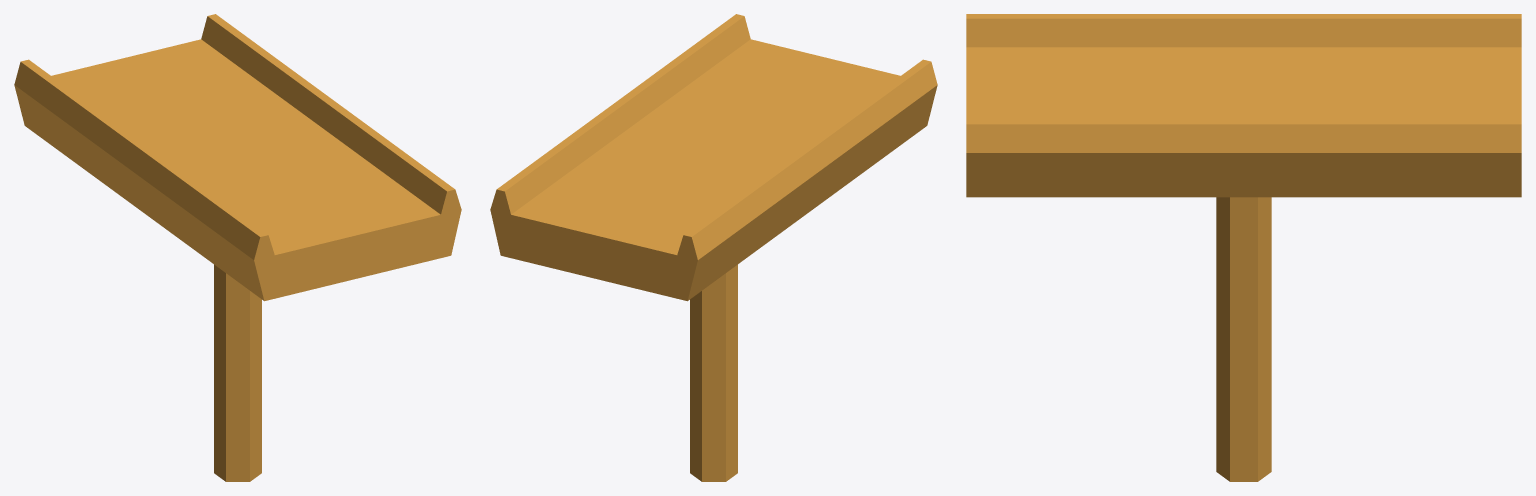
Rendered from belt-moving-straight.fbx.
3 renders of one model, left to right at view 1: azimuth 30°, elevation 25°; view 2: azimuth 150°, elevation 25°; view 3: azimuth 270°, elevation 25°, orthographic. The views are drawn at different scales.
Parts seen in each view (by area): view 1: belt-moving-straight; view 2: belt-moving-straight; view 3: belt-moving-straight.
Part boxes in pixels (bbox=[...]): belt-moving-straight: bbox=[14, 14, 461, 481]; belt-moving-straight: bbox=[490, 14, 937, 481]; belt-moving-straight: bbox=[966, 14, 1521, 481].
Bounding box in the file's own units: 1 × 1.6 × 2.
